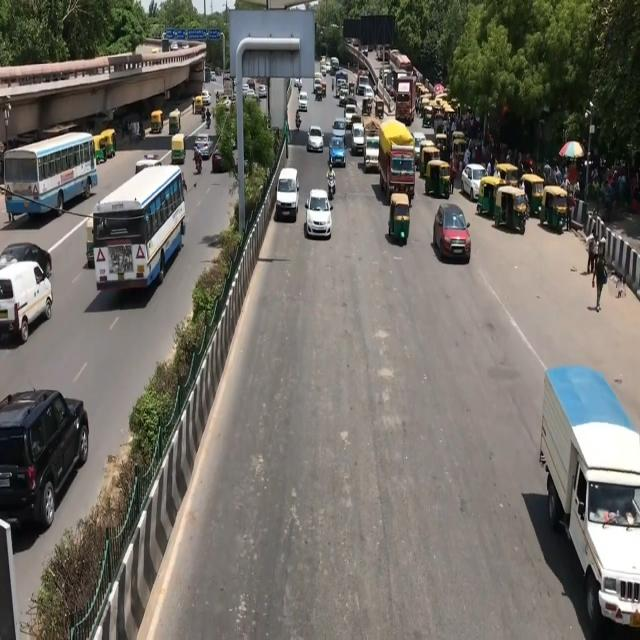Truck: (378, 124, 418, 196), (397, 77, 414, 123)
